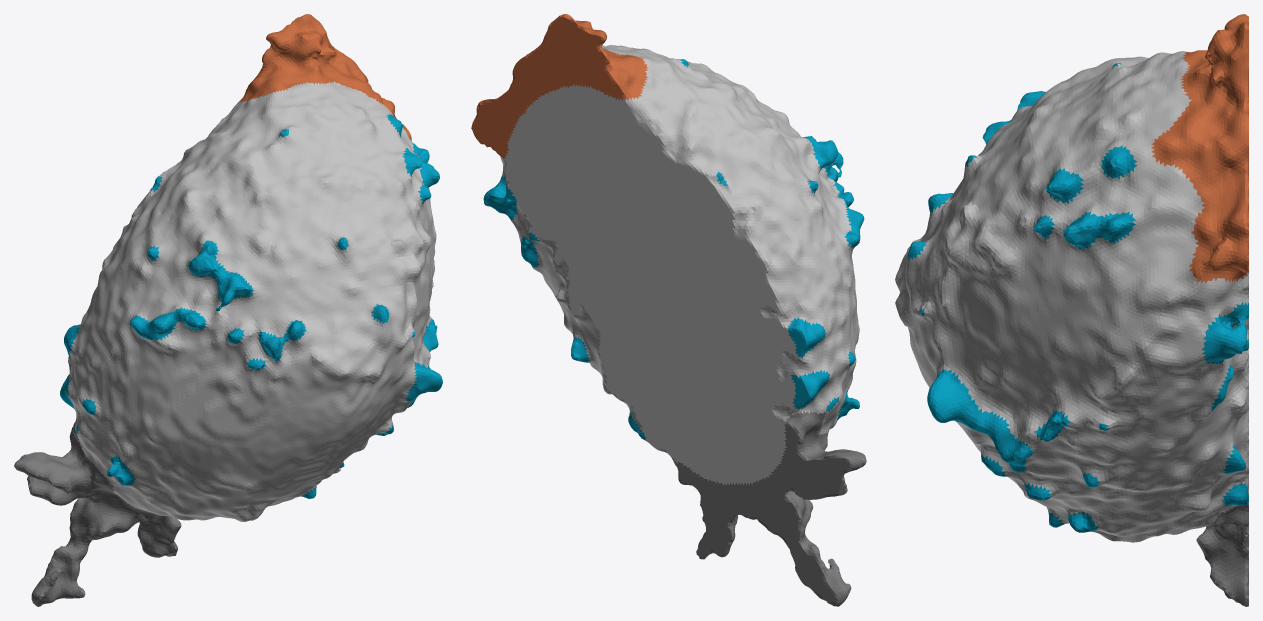
3 views of the same model, side by side, from view 1: azimuth 30°, elevation 25°; view 2: azimuth 150°, elevation 25°; view 3: azimuth 270°, elevation 25° (orthographic). The views are drawn at different scales.
Size of the model in its own units: 118 by 152 by 70.43.
